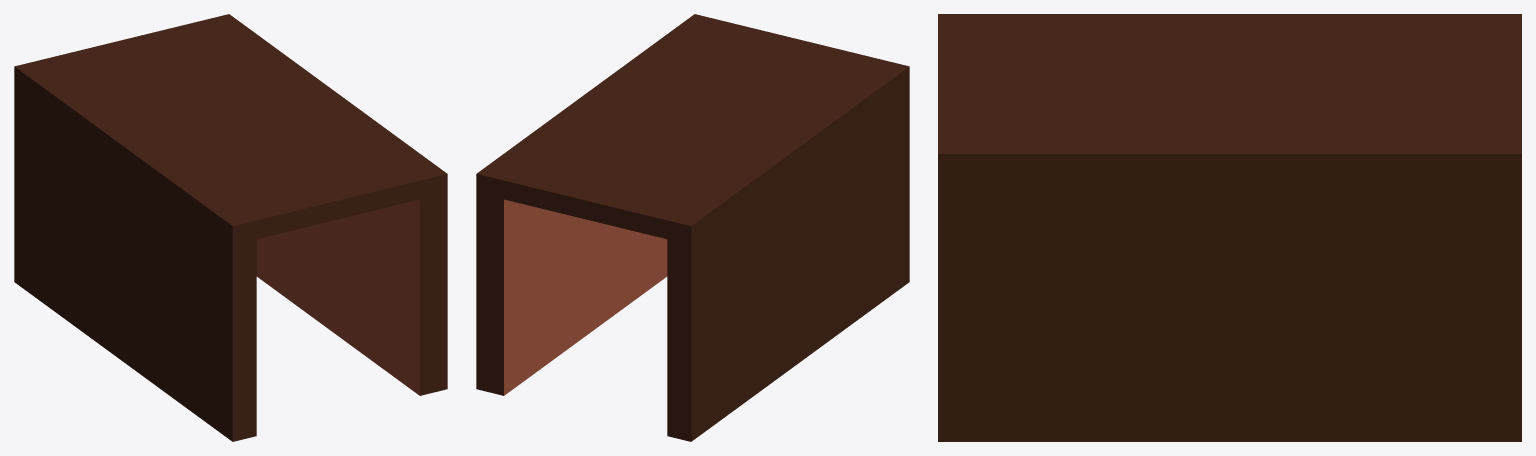
Rendered from Tunelrealdefinitivo.fbx.
The picture shows the model from 3 angles, left to right: view 1: azimuth 30°, elevation 25°; view 2: azimuth 150°, elevation 25°; view 3: azimuth 270°, elevation 25°; orthographic projection. The views are drawn at different scales.
Parts seen in each view (by area): view 1: Cube.004; view 2: Cube.004; view 3: Cube.004.
Boxes of the visible parts, bbox=[...] form: Cube.004: bbox=[14, 14, 447, 441]; Cube.004: bbox=[476, 14, 909, 441]; Cube.004: bbox=[938, 14, 1521, 441].
Bounding box in the file's own units: 395 × 379 × 696.
1 material, 1 textured.
